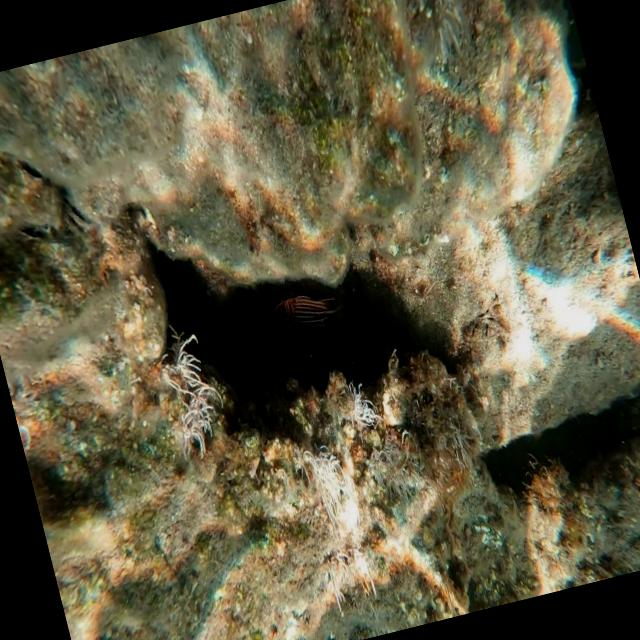Asker Baligi: (268, 281, 344, 338)
